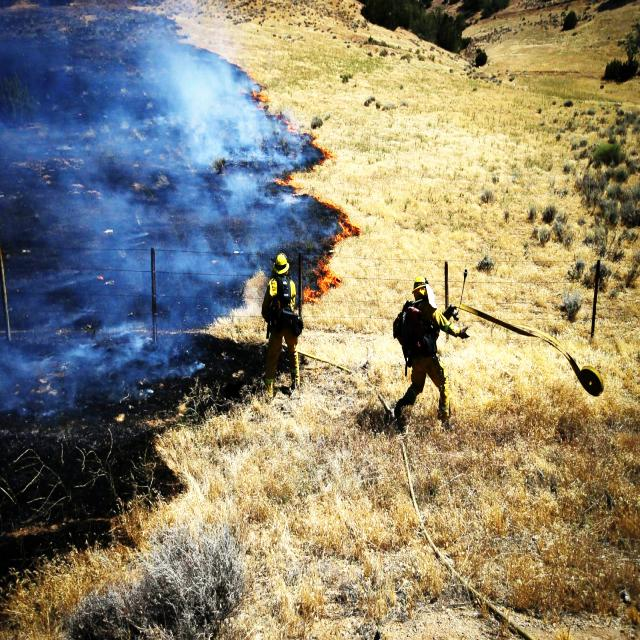api: (318, 192, 369, 251), (301, 250, 348, 314)
asap: (130, 1, 303, 173), (1, 326, 213, 402), (106, 227, 267, 291), (228, 168, 309, 211)
